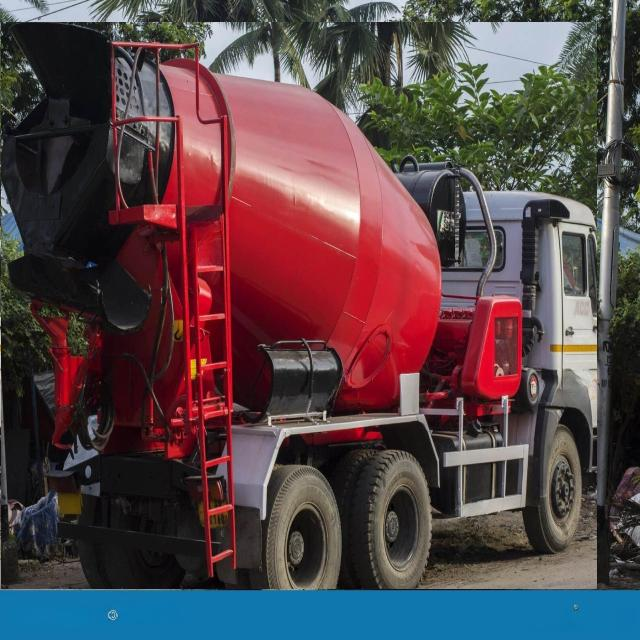truck: (1, 23, 596, 589)
